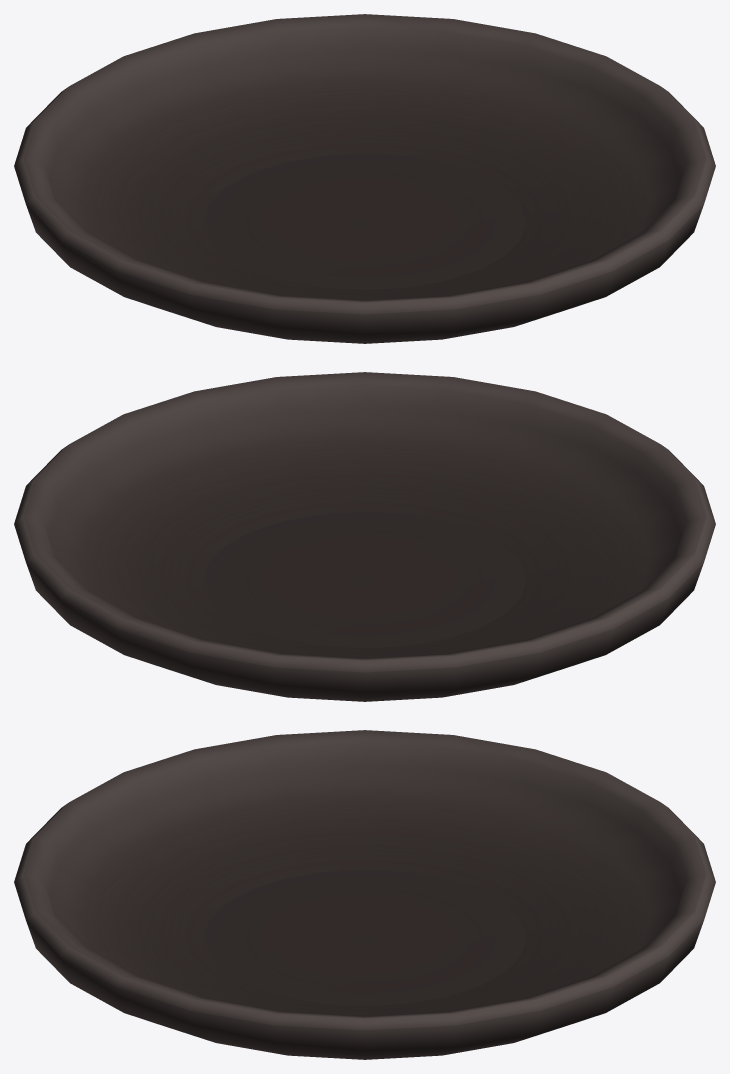
The model's file is saucer_001.fbx.
3 renders of one model, top to bottom at view 1: azimuth 30°, elevation 25°; view 2: azimuth 150°, elevation 25°; view 3: azimuth 270°, elevation 25°, orthographic.
Visible parts, largest first — view 1: saucer_001; view 2: saucer_001; view 3: saucer_001.
Part boxes in pixels (x1,y1,x2,y2): saucer_001: [14, 14, 715, 343]; saucer_001: [14, 372, 715, 701]; saucer_001: [14, 730, 715, 1059].
Size of the model in its own units: 14.59 by 14.59 by 1.96.
